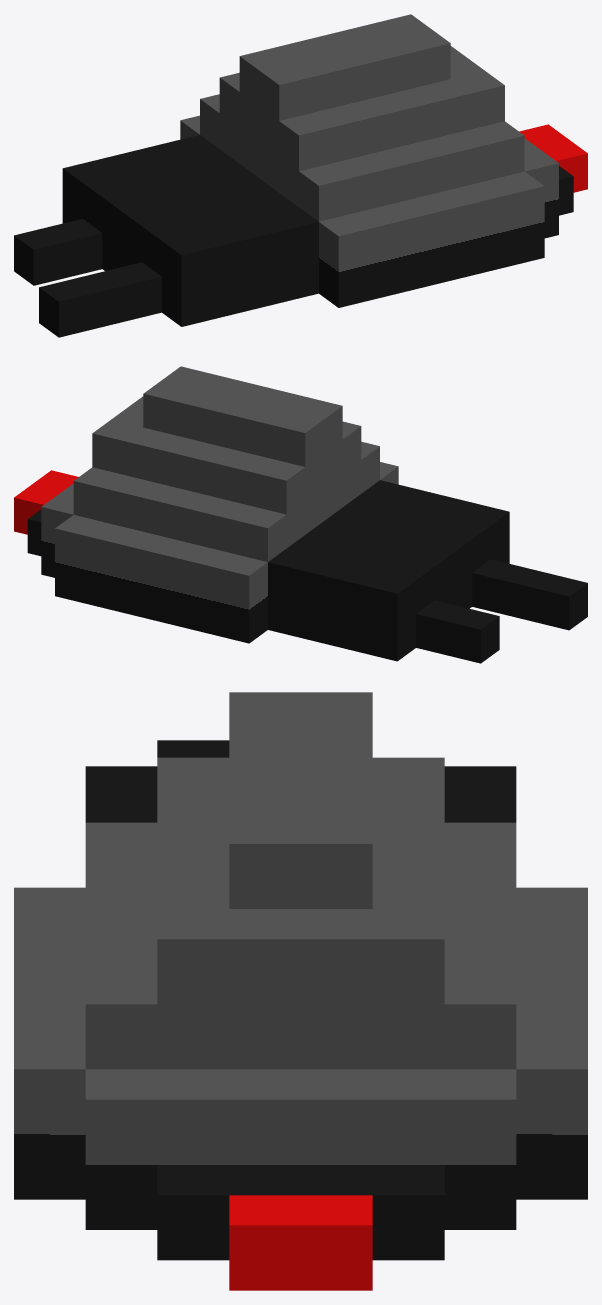
Rendered from Nano003.dae.
3 renders of one model, top to bottom at view 1: azimuth 30°, elevation 25°; view 2: azimuth 150°, elevation 25°; view 3: azimuth 270°, elevation 25°, orthographic. The views are drawn at different scales.
Visible parts, largest first — view 1: Nano002; view 2: Nano002; view 3: Nano002.
Boxes of the visible parts, x1=… form: Nano002: x1=14, y1=14, x2=587, y2=337; Nano002: x1=14, y1=366, x2=587, y2=663; Nano002: x1=14, y1=692, x2=587, y2=1290.
Bounding box in the file's own units: 1.6 × 0.8 × 0.5.
1 material, 1 textured.
